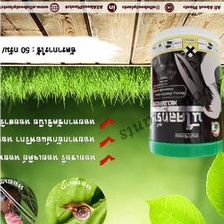insecticide: (145, 22, 224, 160)
